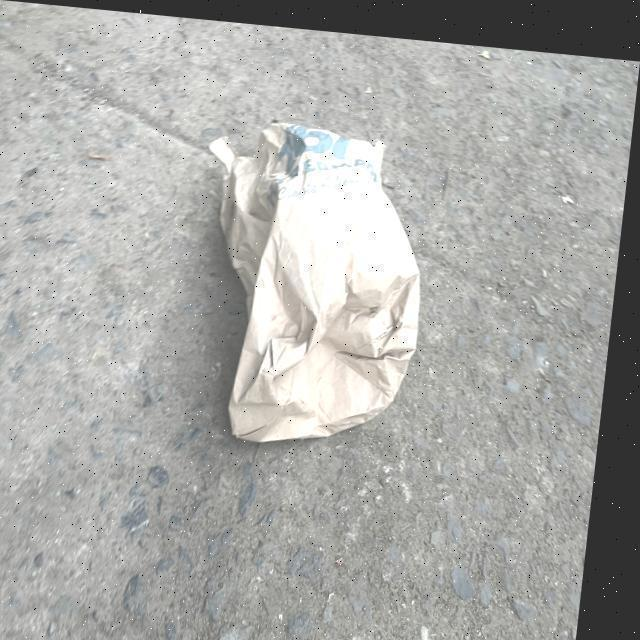Paper_Bag: (190, 111, 442, 446)
